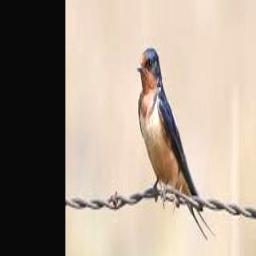Swallow: (136, 48, 215, 238)
